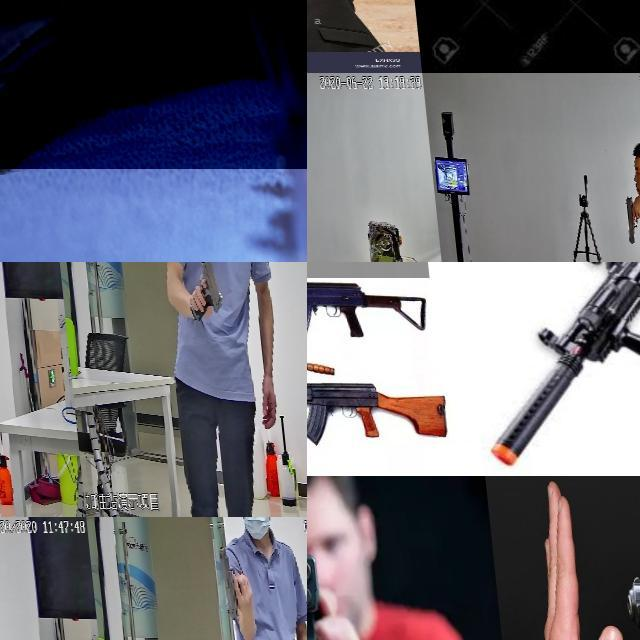gun-knife-thesis - v11 Yolov5 augmented: (0, 0, 307, 169), (467, 262, 640, 466), (402, 0, 640, 106), (307, 366, 458, 459), (307, 273, 445, 362), (307, 262, 452, 318), (207, 542, 241, 622), (307, 544, 332, 640), (177, 262, 219, 316), (0, 302, 30, 375), (611, 192, 634, 244), (307, 0, 356, 24), (0, 516, 16, 563), (307, 174, 320, 224)
